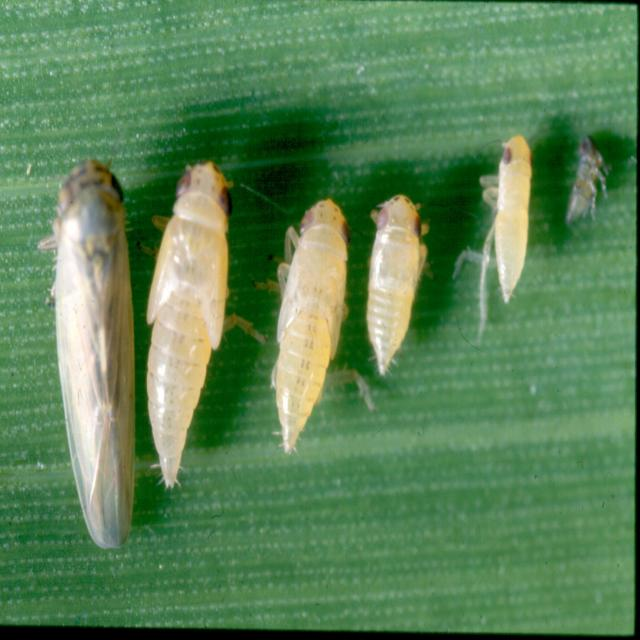Yechan: (42, 144, 143, 575)
